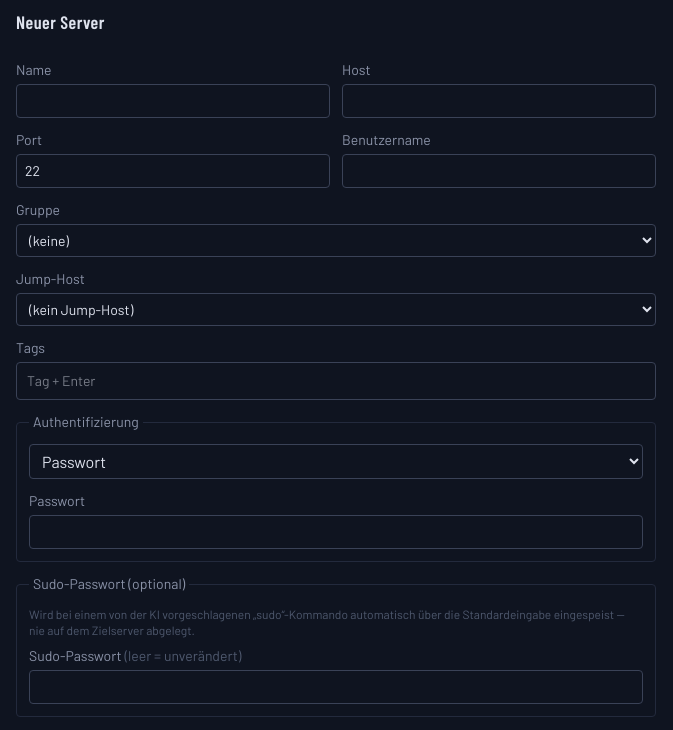
ServerForm — Anmeldeart Schlüsseldatei (Spec 0076, B-1..B-4) › fragt nach einer Pause den Vorab-Befund ab und zeigt die übersetzte Meldung (B-3)
The width and height of the screenshot is (673, 730).
Select "Schlüsseldatei" in the 3rd dropdown at (336, 462), box [29, 444, 643, 479]
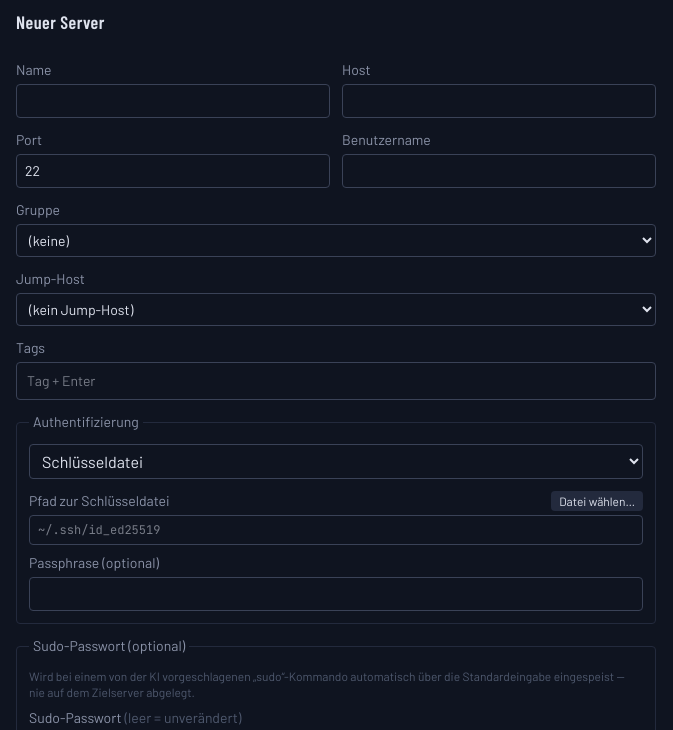
Type "/tmp/nope" into the field with placeholder "~/.ssh/id_ed25519" at (336, 530), box [29, 515, 643, 545]
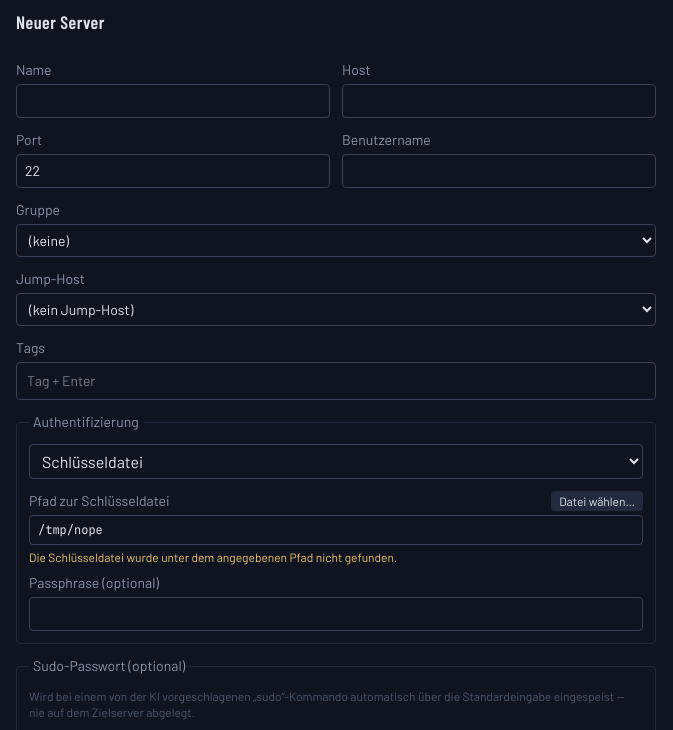
Result: the list item "Die Schlüsseldatei wurde unter dem angegebenen Pfad nicht gefunden." is shown at [29, 550, 397, 564]
